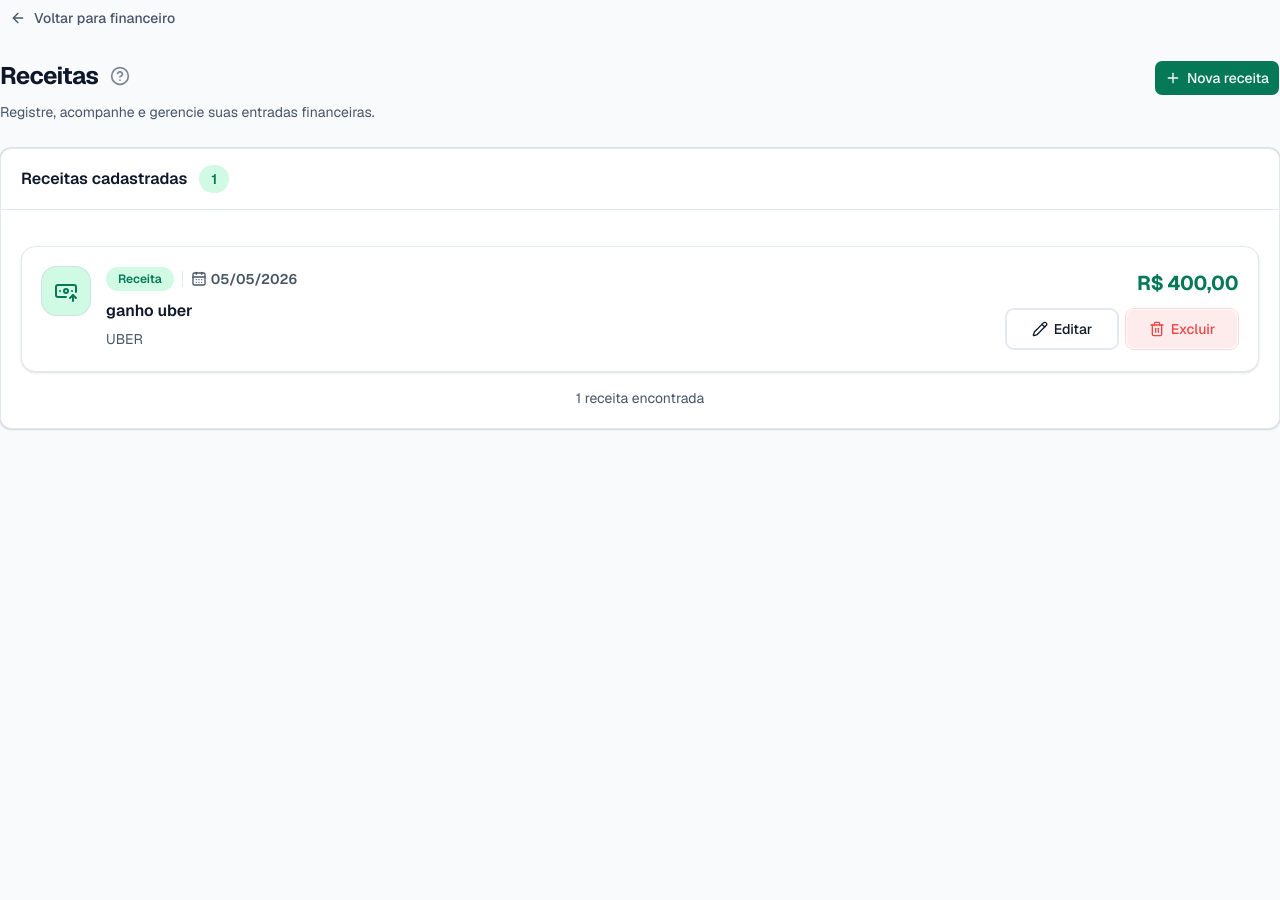
Test case: FinanceIncomesPageContent › should render delete error
Click the button "Excluir" at (1182, 329), box [1126,309,1238,349]
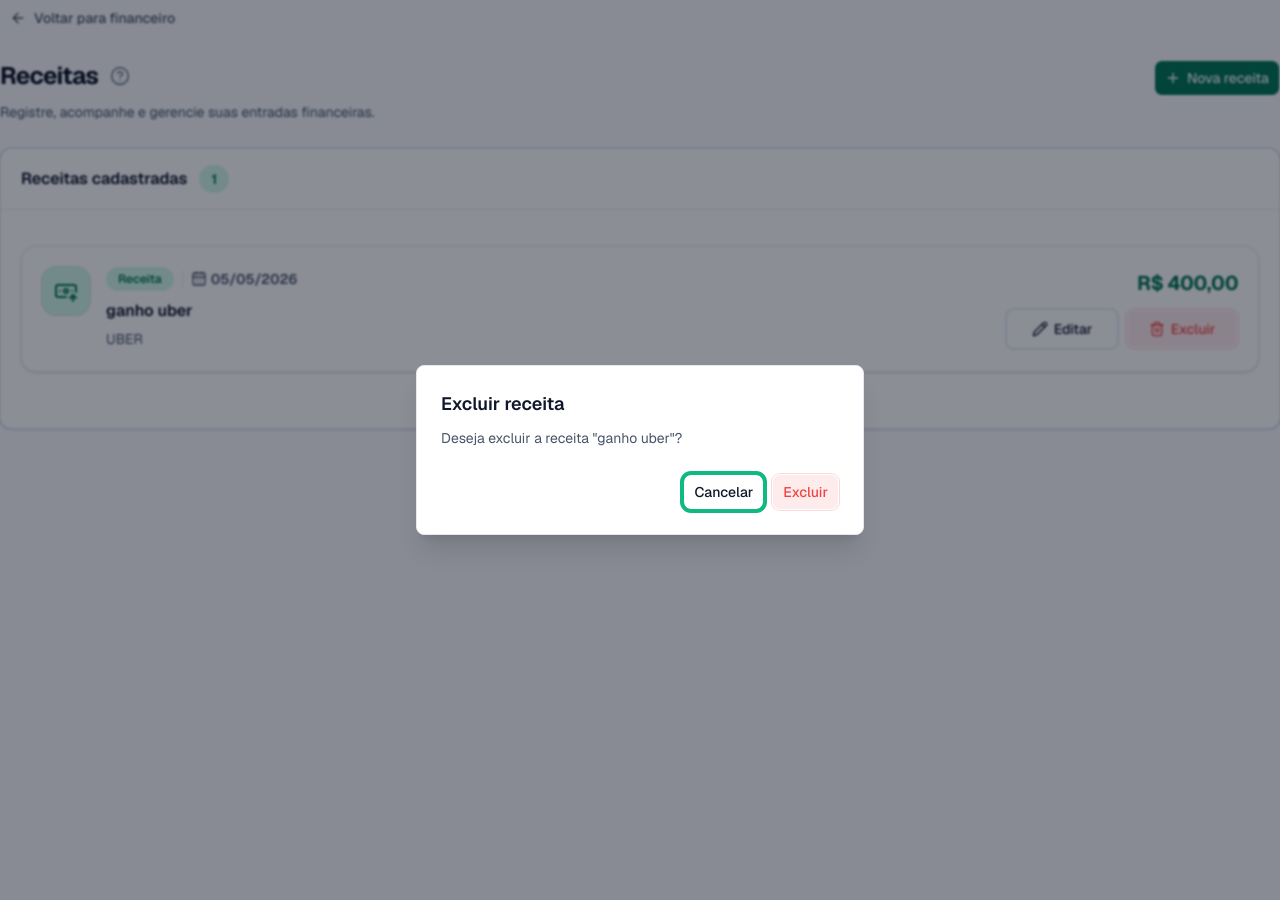
Click the button "Excluir" at (806, 492), box [772,474,839,510]
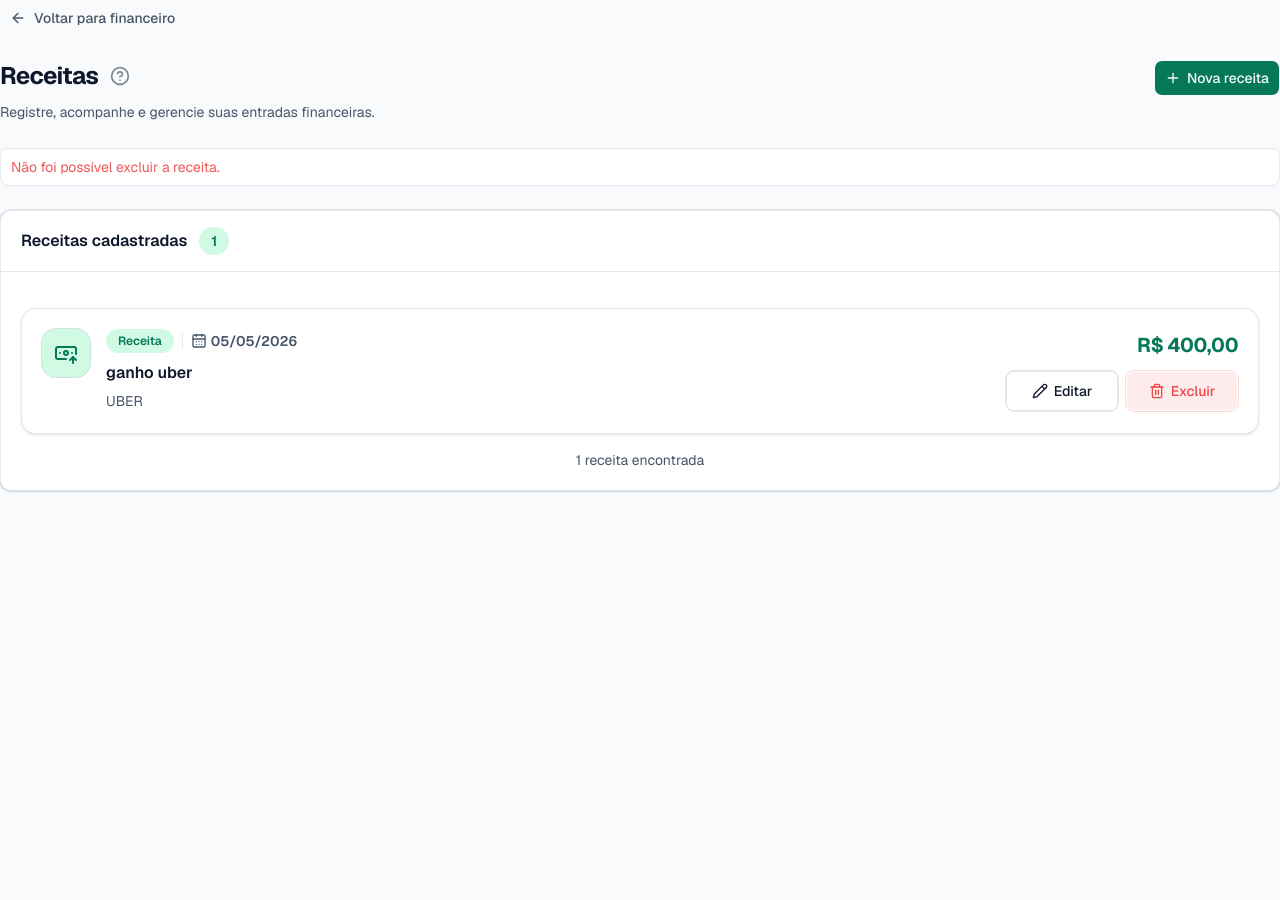
Expected: the text "Não foi possível excluir a receita." is shown, [11,158,220,176]
